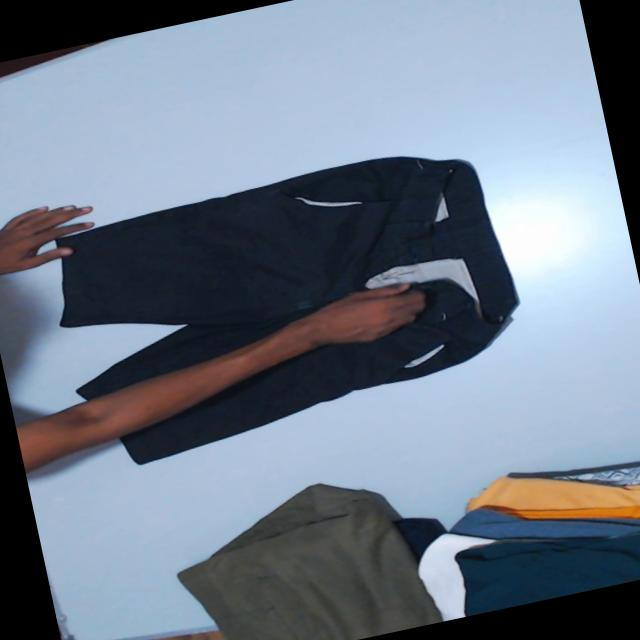new-garment: (60, 156, 515, 463)
